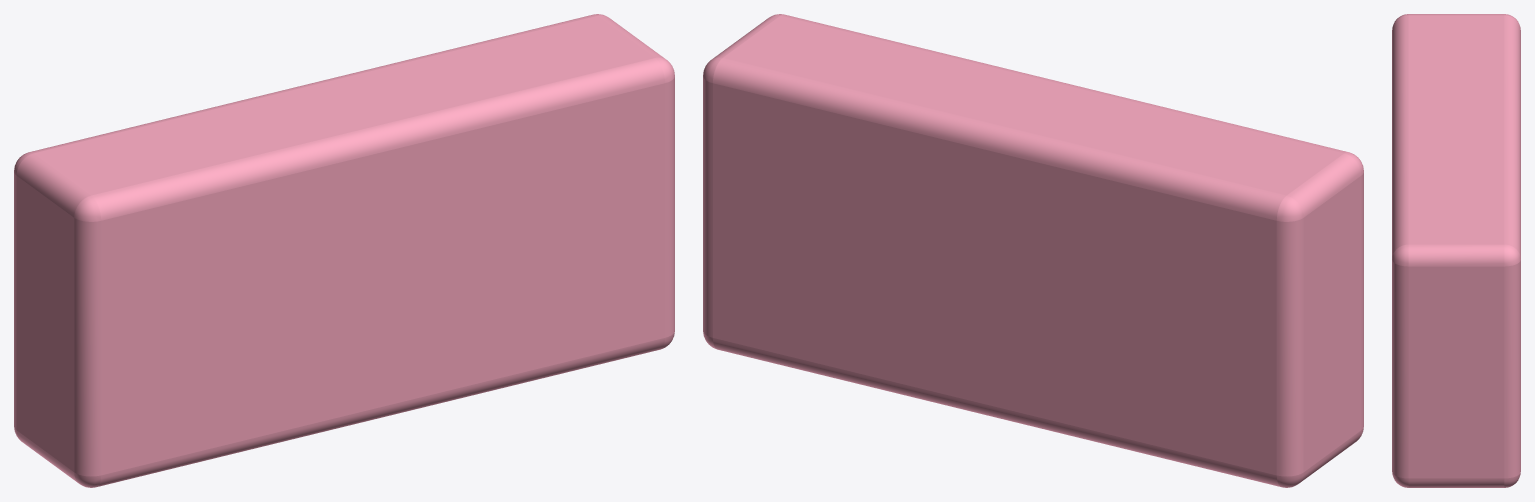
3 views of the same model, side by side, from view 1: azimuth 30°, elevation 25°; view 2: azimuth 150°, elevation 25°; view 3: azimuth 270°, elevation 25° (orthographic). The views are drawn at different scales.
Parts seen in each view (by area): view 1: Rectangle; view 2: Rectangle; view 3: Rectangle.
Boxes of the visible parts, x1,y1,x2,y2 form: Rectangle: [14, 14, 674, 487]; Rectangle: [703, 14, 1363, 487]; Rectangle: [1392, 14, 1520, 487].
Bounding box in the file's own units: 0.2154 × 0.1 × 0.0483.
